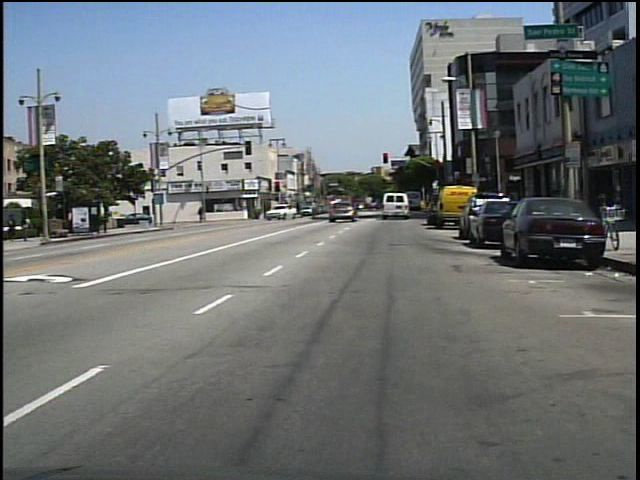person: (22, 213, 39, 246), (309, 196, 326, 225), (10, 212, 24, 243), (200, 205, 209, 225)
